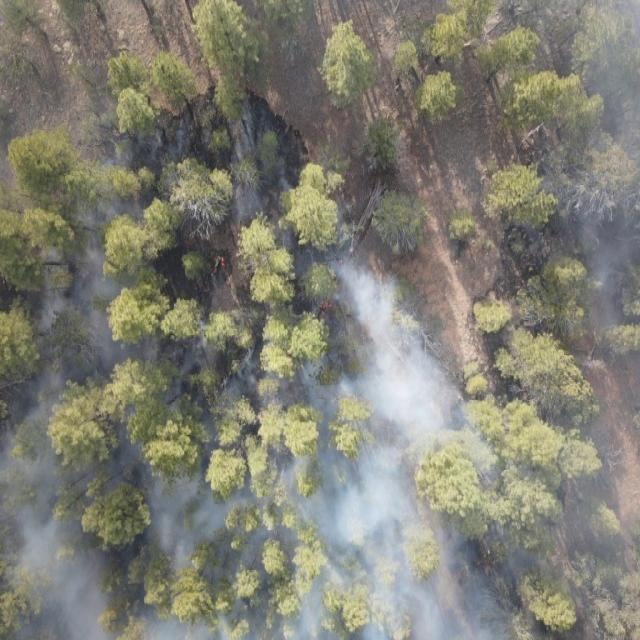fire: (208, 252, 232, 283), (316, 294, 338, 322), (334, 255, 346, 269)
smoke: (0, 81, 294, 640), (527, 0, 640, 640), (294, 204, 414, 640), (414, 322, 526, 640)
